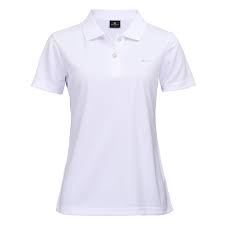S_polo shirt: (32, 9, 204, 222)
